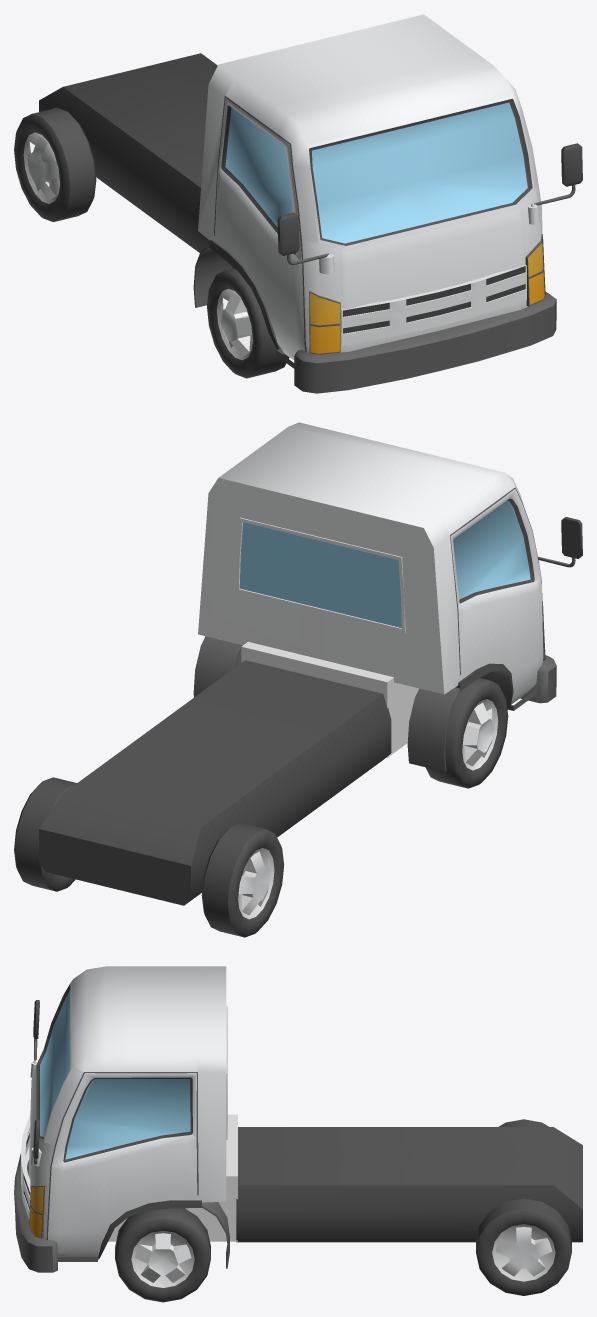
File: Truck_1.fbx
The picture shows the model from 3 angles, top to bottom: view 1: azimuth 30°, elevation 25°; view 2: azimuth 150°, elevation 25°; view 3: azimuth 270°, elevation 25°; orthographic projection. The views are drawn at different scales.
Visible parts, largest first — view 1: Object030, Object045, Object043, Object042; view 2: Object030, Object045, Object043, Object042, Object041; view 3: Object030, Object045, Object041, Object044.
Boxes of the visible parts, bbox=[...] form: Object030: bbox=[198, 14, 582, 393]; Object045: bbox=[39, 53, 280, 349]; Object043: bbox=[14, 108, 96, 222]; Object042: bbox=[207, 268, 289, 378]; Object030: bbox=[198, 422, 582, 710]; Object045: bbox=[39, 636, 513, 905]; Object043: bbox=[201, 823, 283, 937]; Object042: bbox=[425, 678, 508, 788]; Object041: bbox=[14, 777, 76, 891]; Object030: bbox=[14, 966, 227, 1272]; Object045: bbox=[98, 1114, 582, 1268]; Object041: bbox=[476, 1198, 571, 1295]; Object044: bbox=[115, 1208, 210, 1302].
Size of the model in its own units: 4119 by 3628 by 7753.
